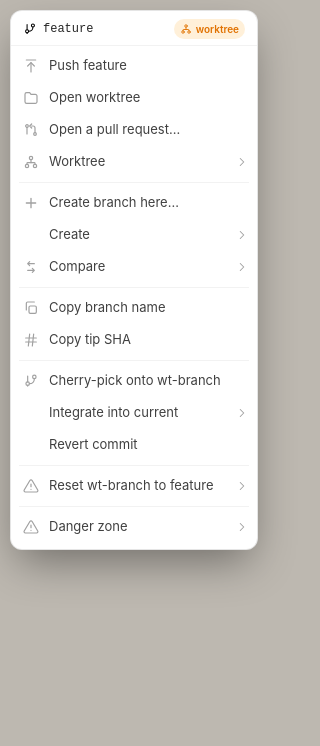
BranchContextMenu › disables Delete with no combined action for a main-worktree branch
Click the menu item "Danger zone". click: [134, 527]
box: x1=11 y1=511 x2=257 y2=543
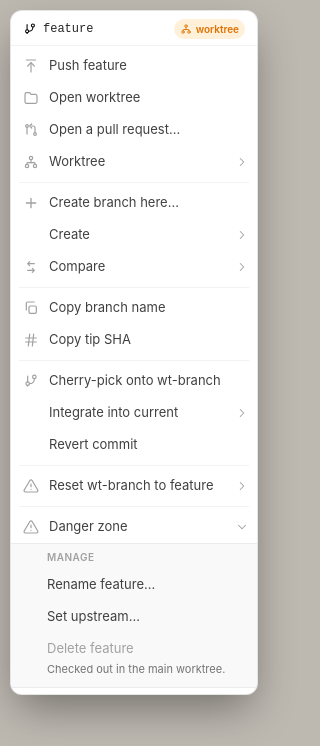
expect the menu item "Open worktree" is shown: met, box x1=11 y1=82 x2=257 y2=114
expect the menu item "Delete feature" is disabled: met, box x1=11 y1=633 x2=257 y2=682
expect the text "Checked out in the main worktree." is shown: met, box x1=47 y1=660 x2=245 y2=676
